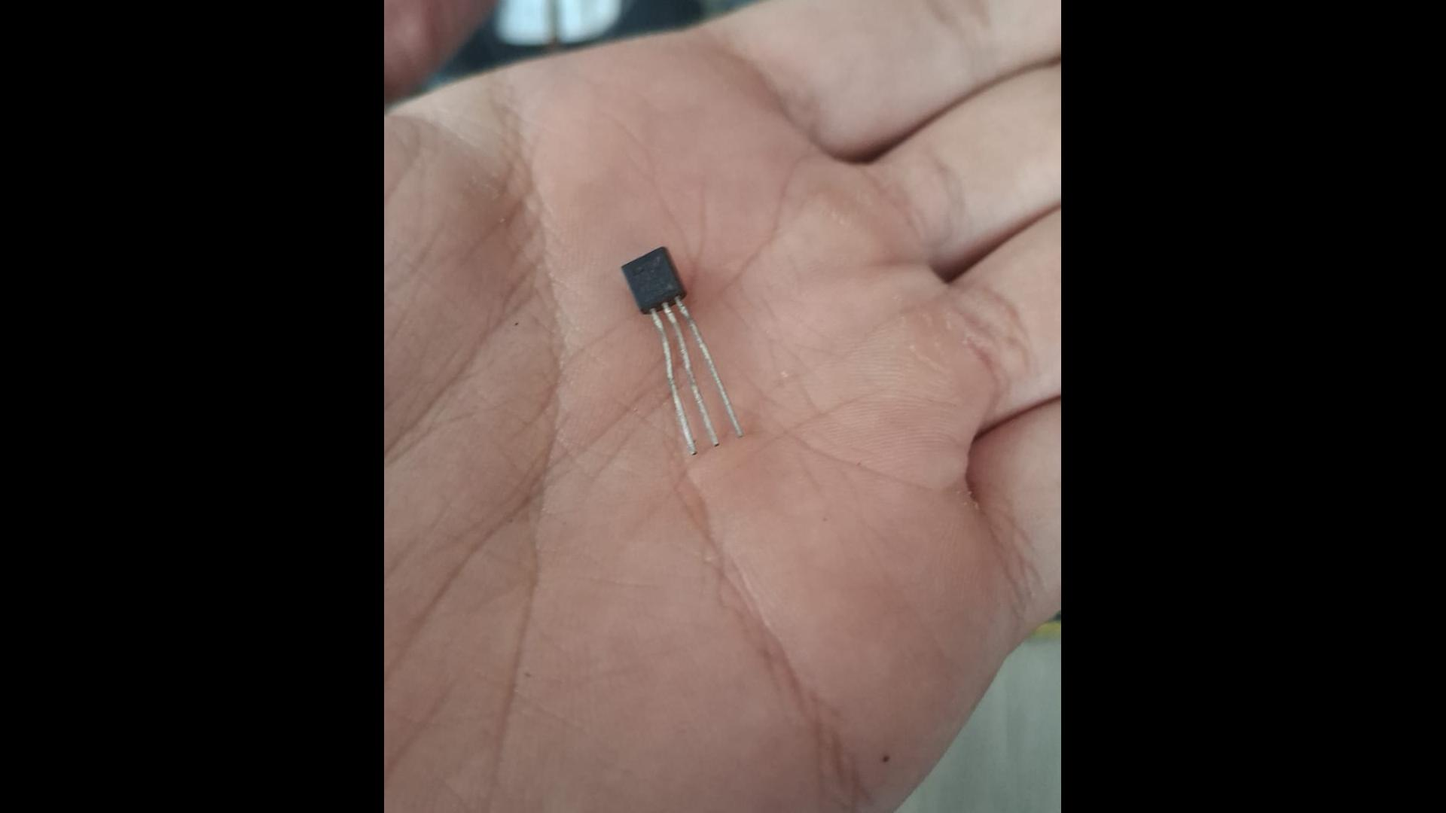Transistor: (622, 245, 743, 454)
